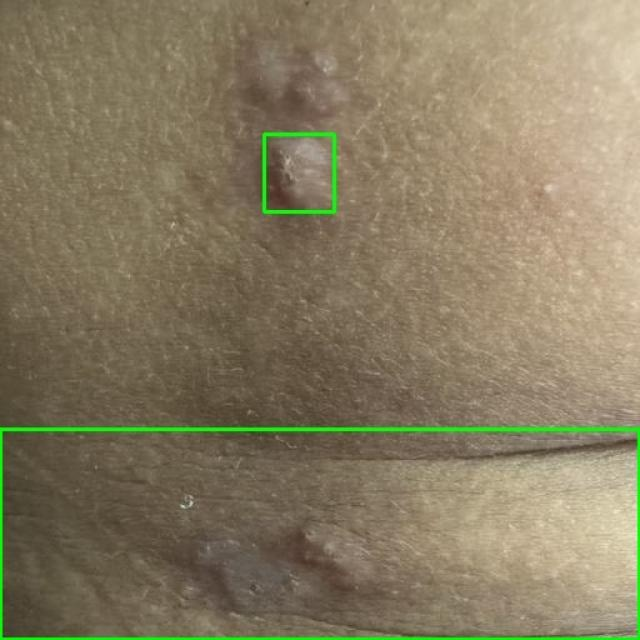Scabies: (0, 429, 639, 639), (264, 134, 334, 211)
